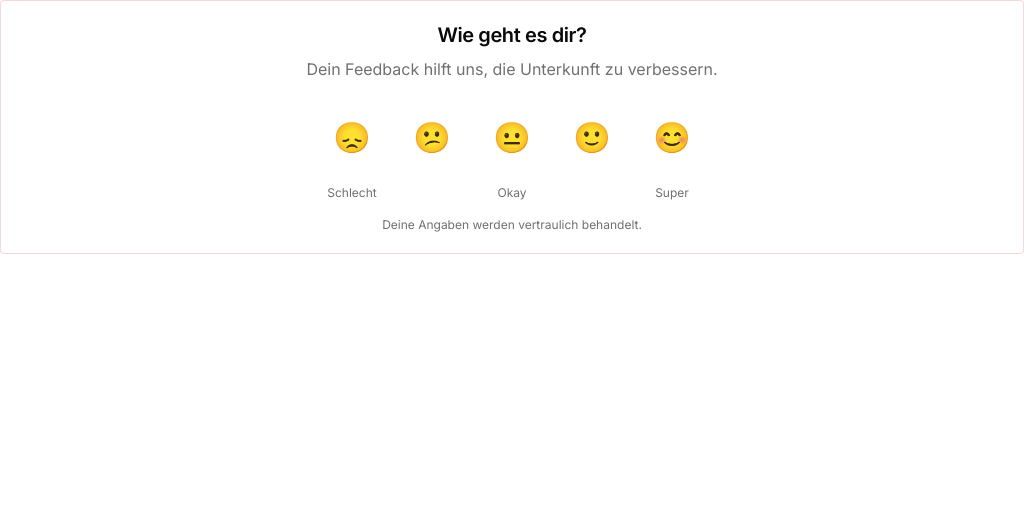
it: SatisfactionRating › does not show concernsForwarded when submitted without concerns
This screenshot has width=1024, height=505.
Step 1. Click the button named "Sehr unzufrieden" → (352, 137), box [320,105,384,169]
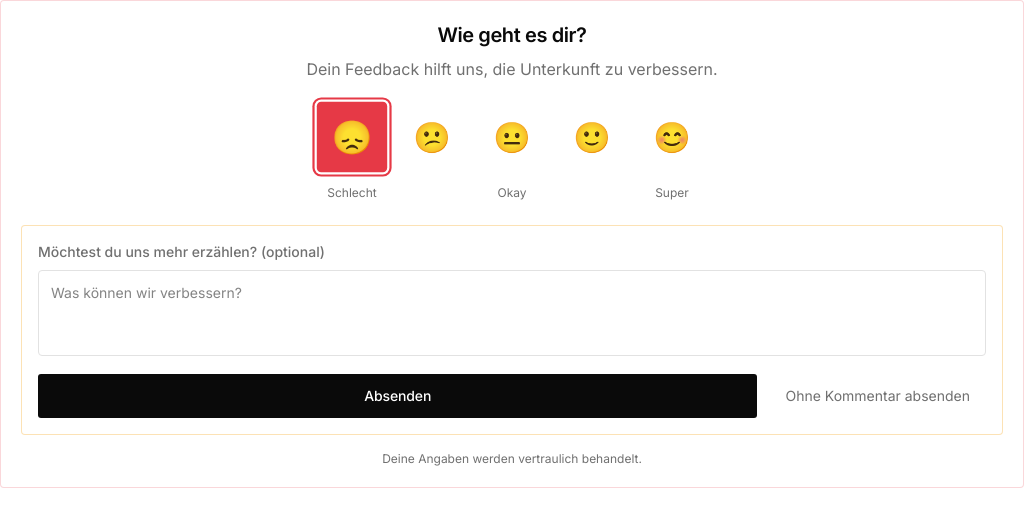
Step 2. Click the button "Ohne Kommentar absenden" → (878, 396), box [770,374,986,418]
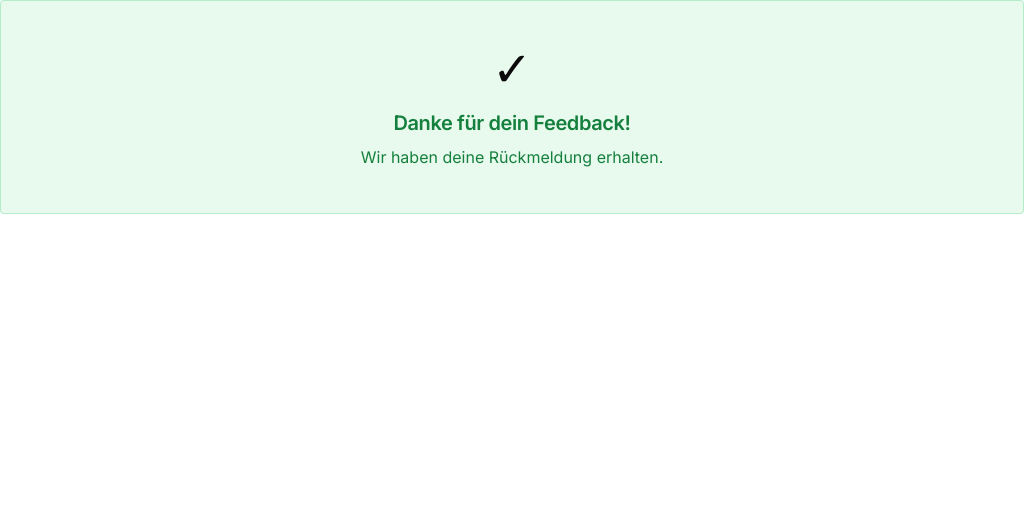
Result: the heading "Danke für dein Feedback!" is shown at [394,111,631,135]
